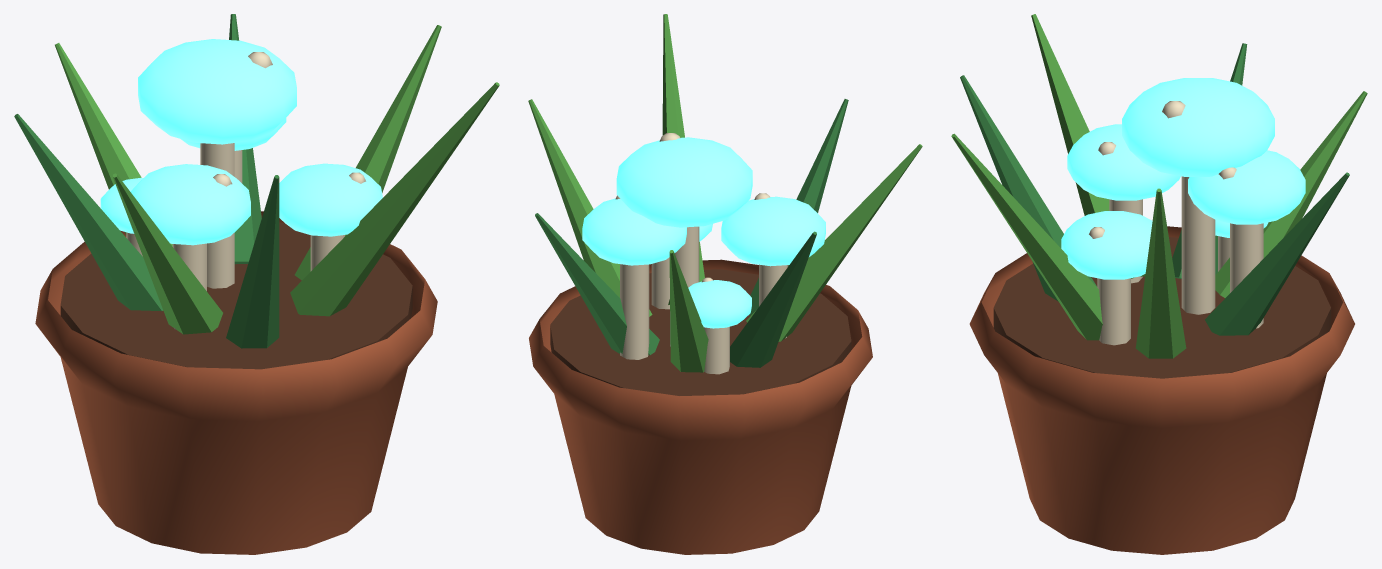
File: magic_herbs.glb
3 renders of one model, left to right at view 1: azimuth 30°, elevation 25°; view 2: azimuth 150°, elevation 25°; view 3: azimuth 270°, elevation 25°, orthographic. The views are drawn at different scales.
Parts seen in each view (by area): view 1: magic_herbs; view 2: magic_herbs; view 3: magic_herbs.
Part boxes in pixels (box(x1,y1,x2,y2)): magic_herbs: box(14, 14, 499, 554); magic_herbs: box(528, 14, 922, 554); magic_herbs: box(951, 14, 1367, 554).
Size of the model in its own units: 0.3588 by 0.3979 by 0.3454.
